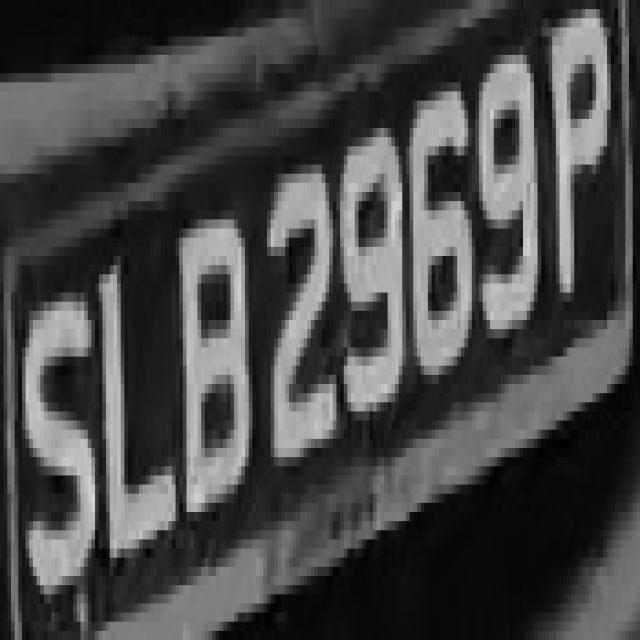2: (252, 156, 340, 476)
6: (402, 55, 472, 393)
9: (468, 36, 545, 375), (332, 110, 410, 439)
B: (168, 192, 256, 530)
L: (91, 219, 183, 576)
P: (545, 27, 618, 302)
S: (18, 274, 95, 604)
